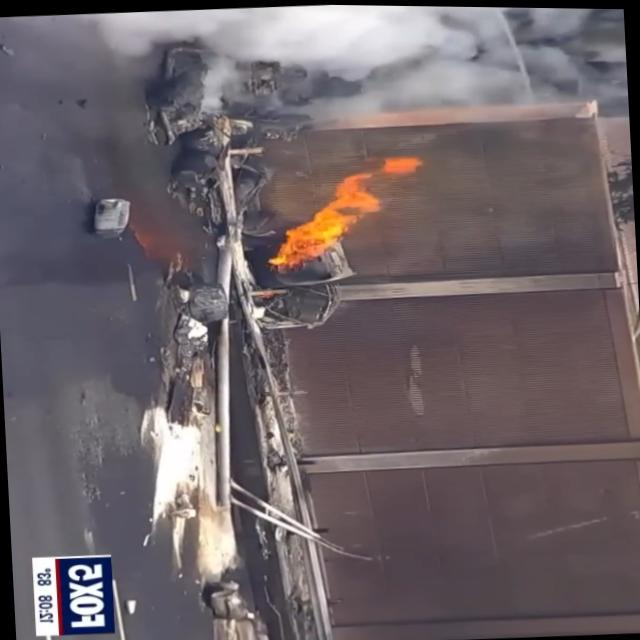Fire: (263, 177, 383, 270)
